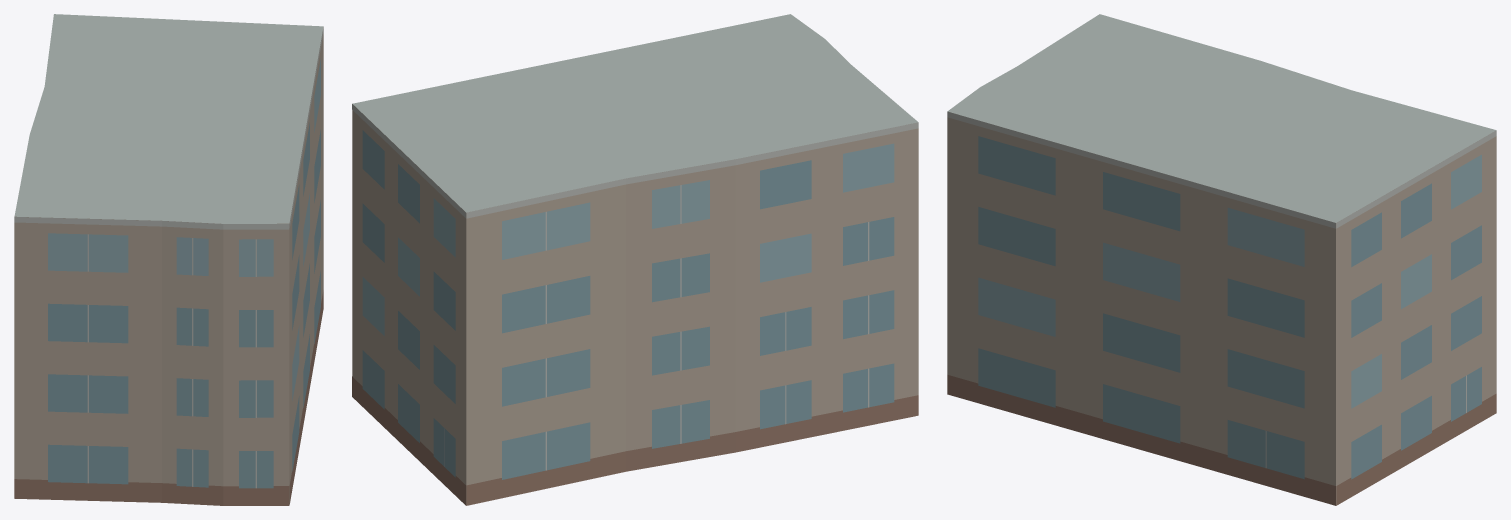
The model's file is survey-upis-32725952.glb.
3 renders of one model, left to right at view 1: azimuth 30°, elevation 25°; view 2: azimuth 150°, elevation 25°; view 3: azimuth 270°, elevation 25°, orthographic. The views are drawn at different scales.
Visible parts, largest first — view 1: survey-upis-32725952.tmp; view 2: survey-upis-32725952.tmp; view 3: survey-upis-32725952.tmp.
Boxes of the visible parts, left/top/right/bottom form: survey-upis-32725952.tmp: left=14, top=14, right=323, bottom=505; survey-upis-32725952.tmp: left=352, top=14, right=918, bottom=505; survey-upis-32725952.tmp: left=947, top=14, right=1496, bottom=505.
Bounding box in the file's own units: 18.86 × 11.9 × 20.95.
